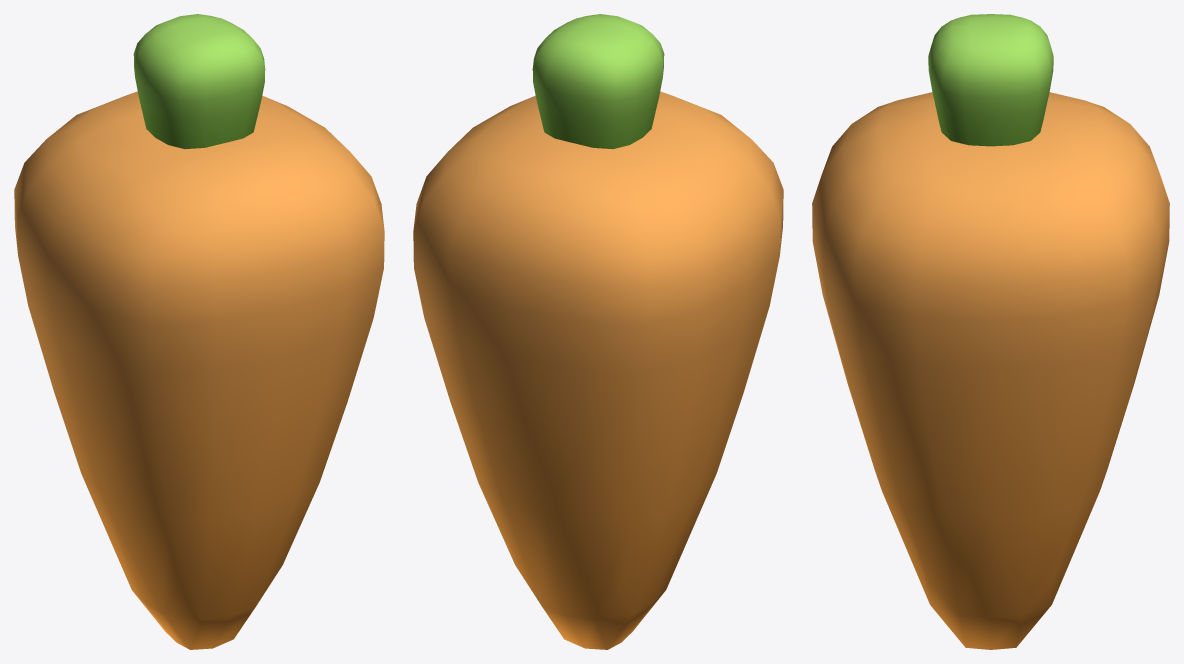
File: Character_Plant5.fbx
3 renders of one model, left to right at view 1: azimuth 30°, elevation 25°; view 2: azimuth 150°, elevation 25°; view 3: azimuth 270°, elevation 25°, orthographic.
Visible parts, largest first — view 1: carrot; view 2: carrot; view 3: carrot.
Boxes of the visible parts, bbox=[...] form: carrot: bbox=[14, 14, 384, 649]; carrot: bbox=[413, 14, 783, 649]; carrot: bbox=[812, 14, 1169, 649].
Size of the model in its own units: 34.48 by 66.58 by 34.95.
Materials: 1 (1 with a texture image).
